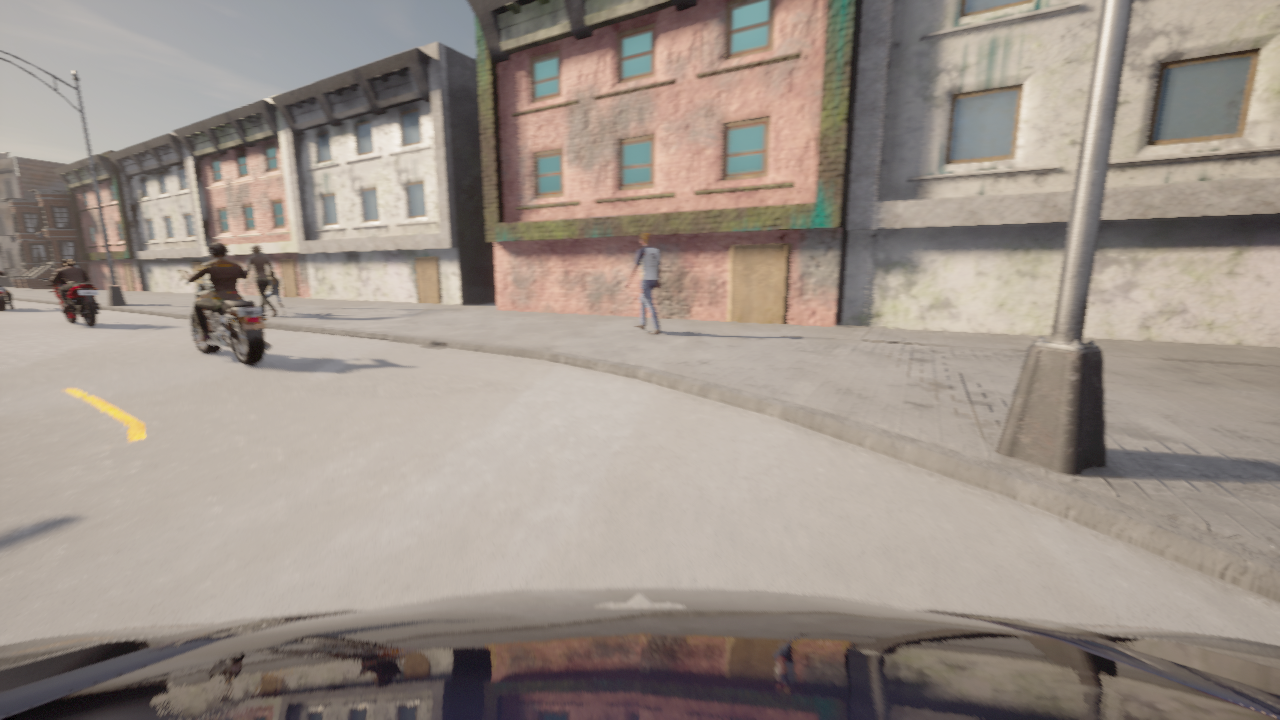cyclist: (0, 588, 1279, 719), (176, 269, 270, 365), (38, 277, 99, 326)
pedestrian: (624, 232, 660, 335), (245, 245, 277, 317), (266, 271, 285, 314)
